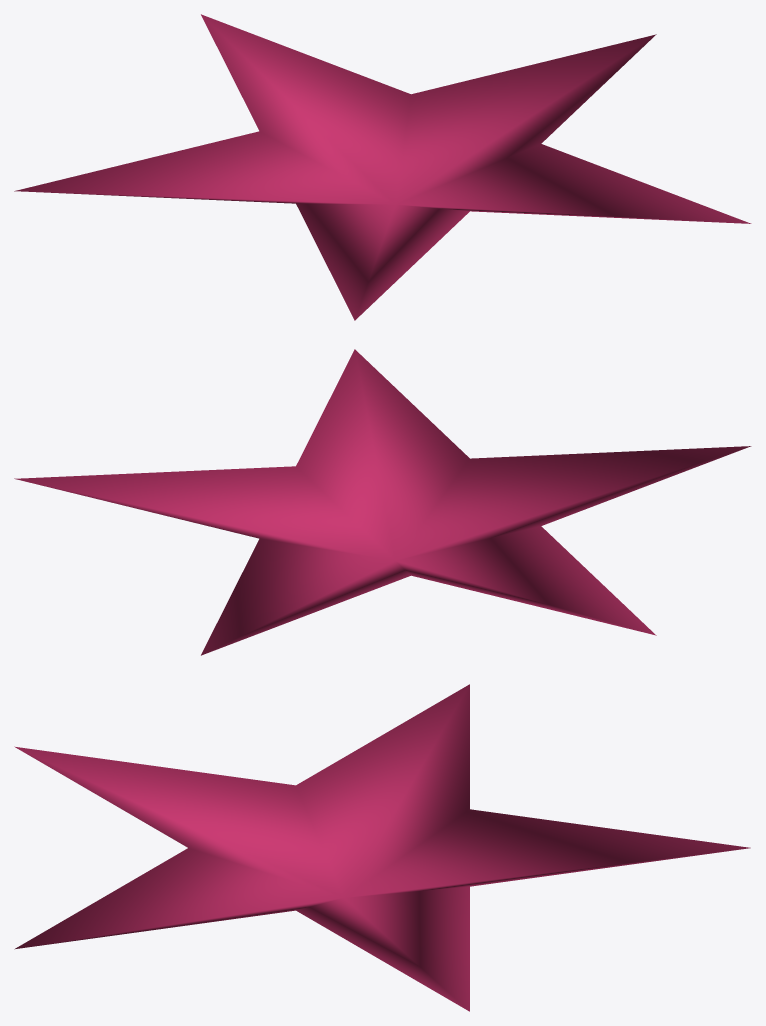
The model's file is newscene.gltf.
3 views of the same model, one above another, from view 1: azimuth 30°, elevation 25°; view 2: azimuth 150°, elevation 25°; view 3: azimuth 270°, elevation 25° (orthographic). The views are drawn at different scales.
Parts seen in each view (by area): view 1: Mesh_Mesh.015; view 2: Mesh_Mesh.015; view 3: Mesh_Mesh.015.
Boxes of the visible parts, box(x1,y1,x2,y2) form: Mesh_Mesh.015: box(14, 14, 751, 320); Mesh_Mesh.015: box(14, 349, 751, 655); Mesh_Mesh.015: box(14, 684, 750, 1011).
Size of the model in its own units: 49.81 by 7.08 by 47.37.
